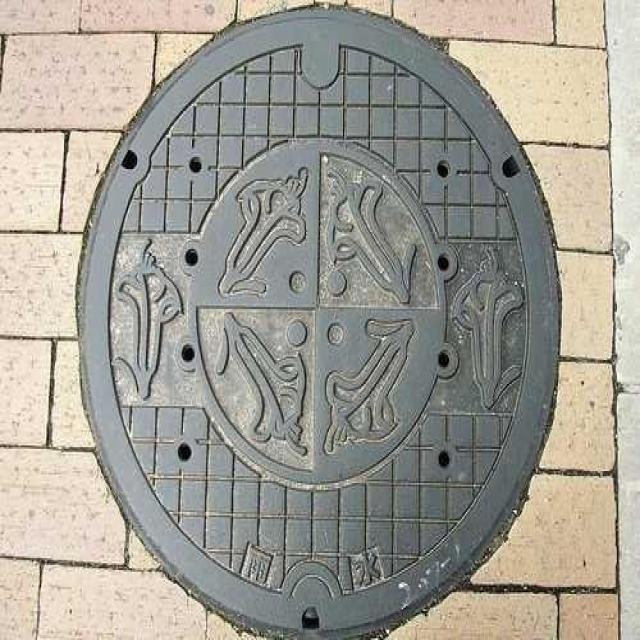manhole: (78, 8, 560, 636)
